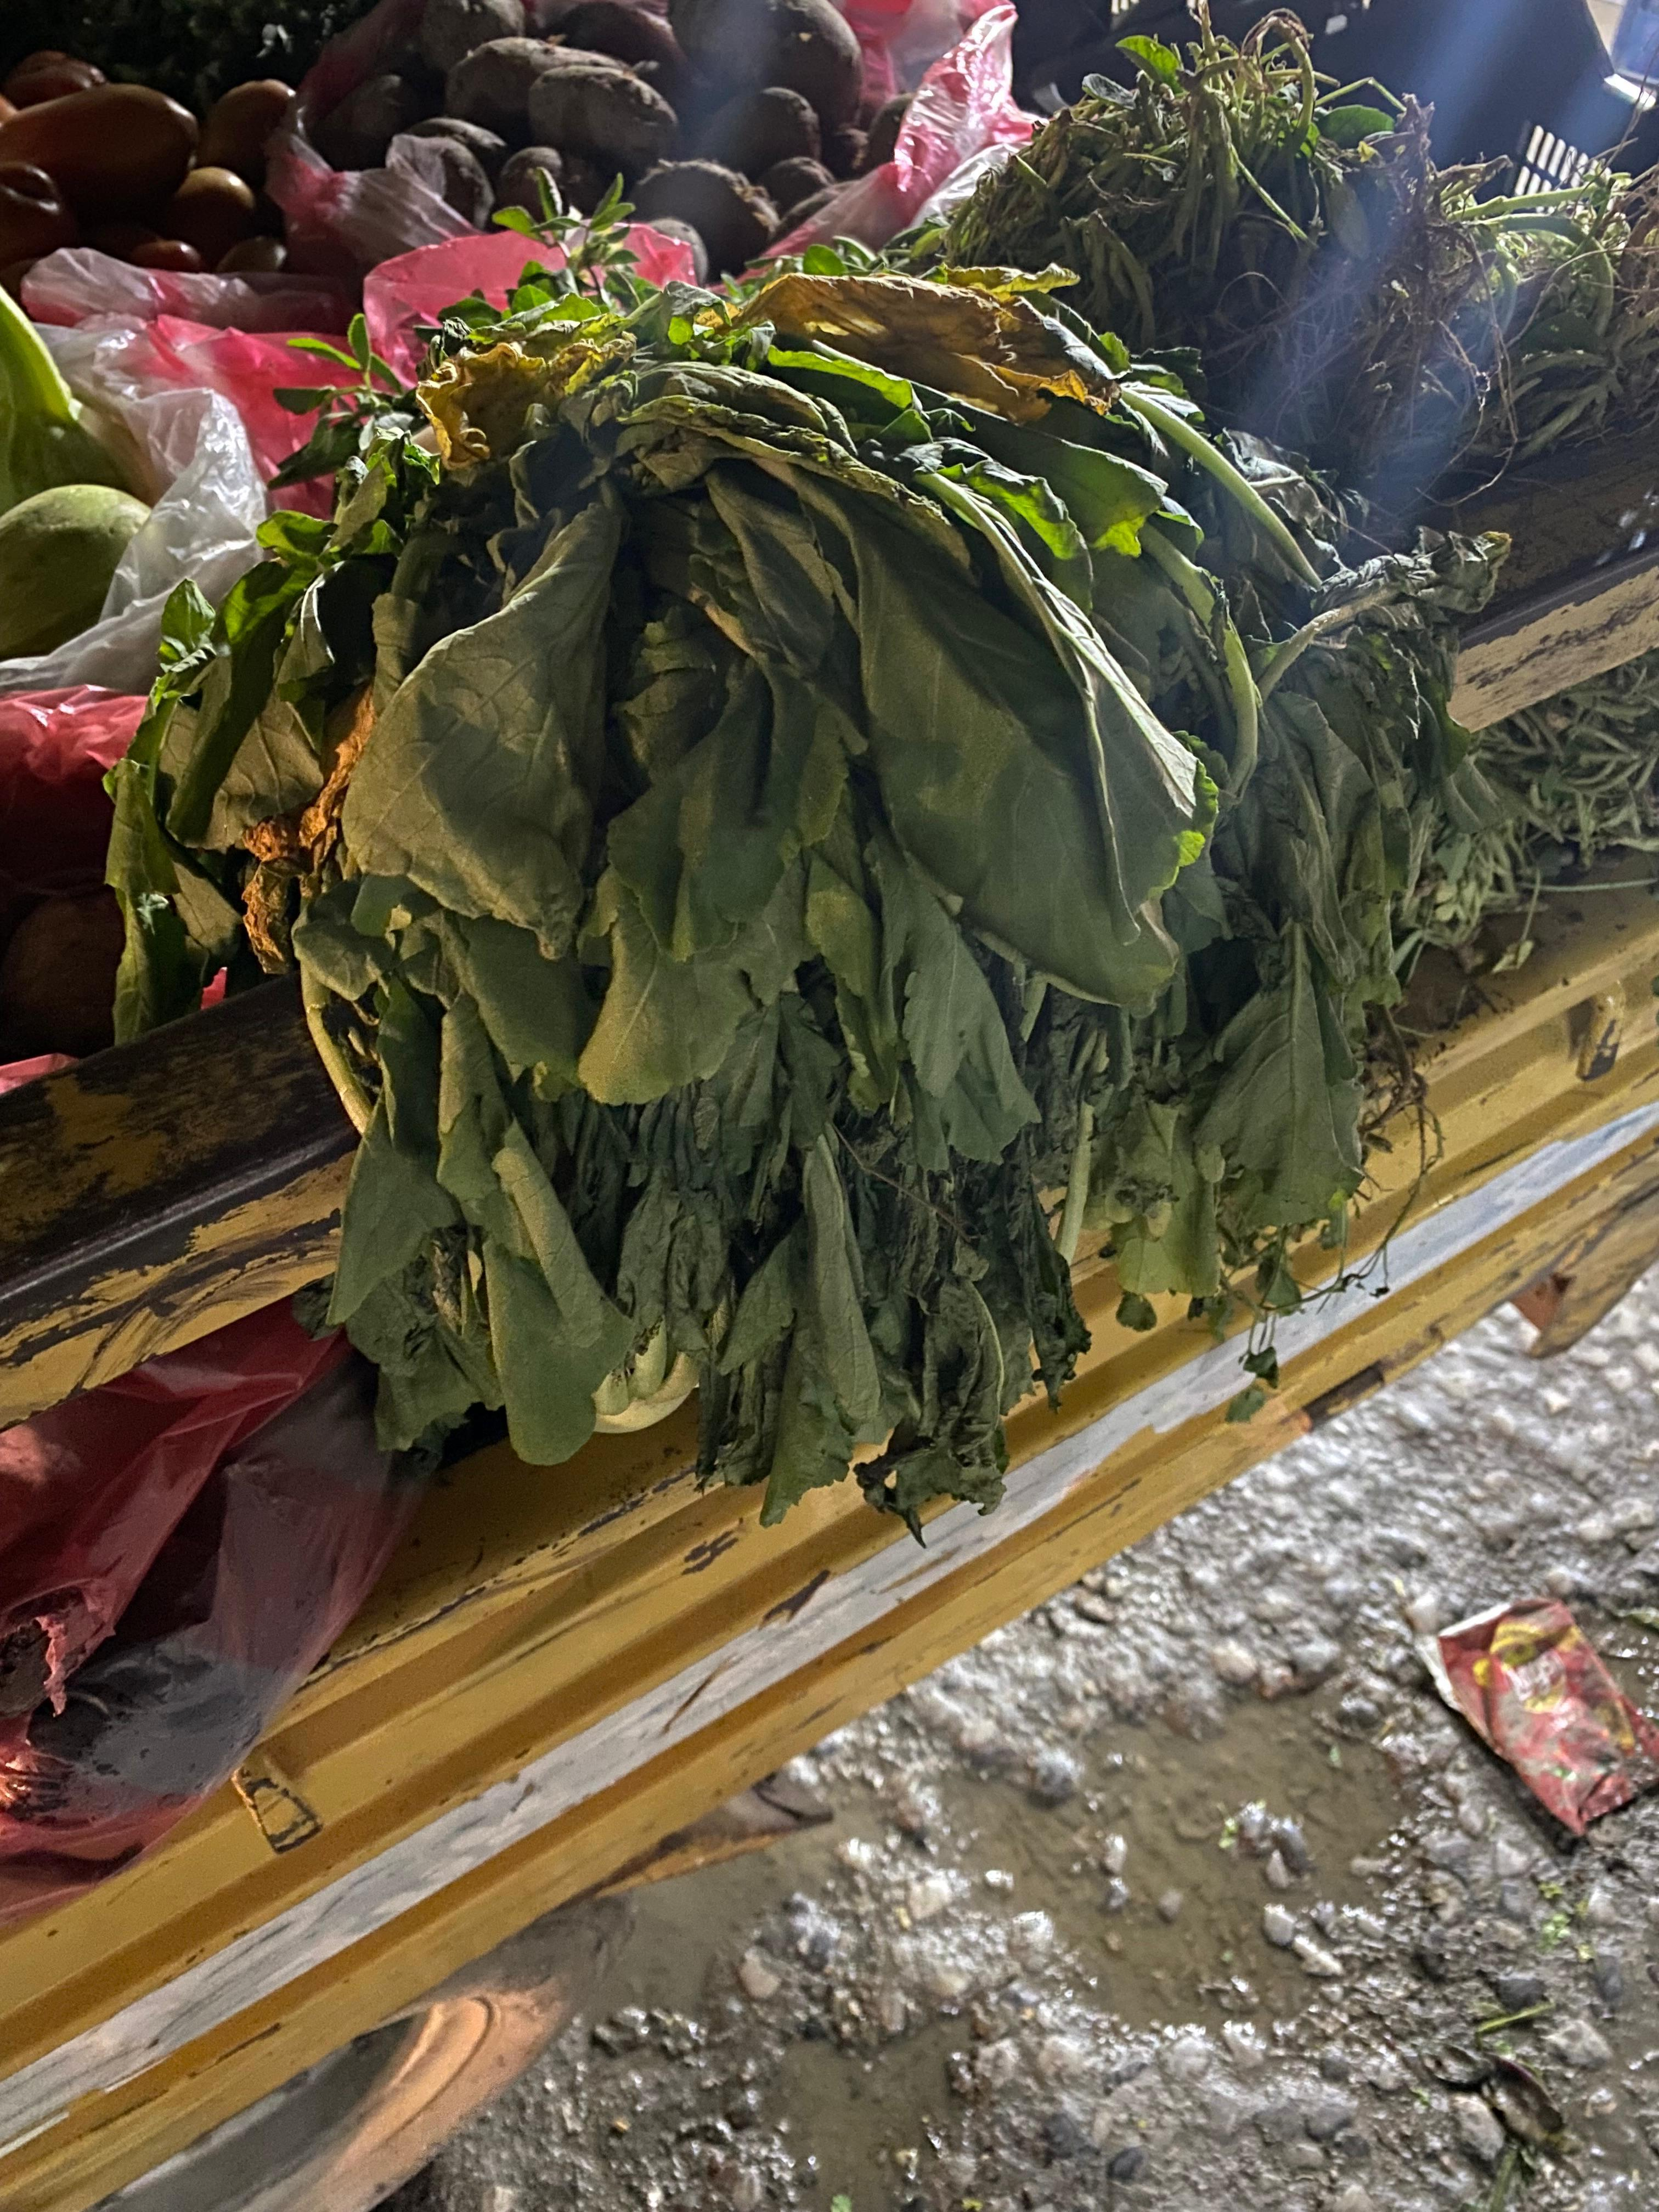organic: (94, 260, 1399, 1493), (983, 23, 1659, 514), (0, 260, 220, 681)
